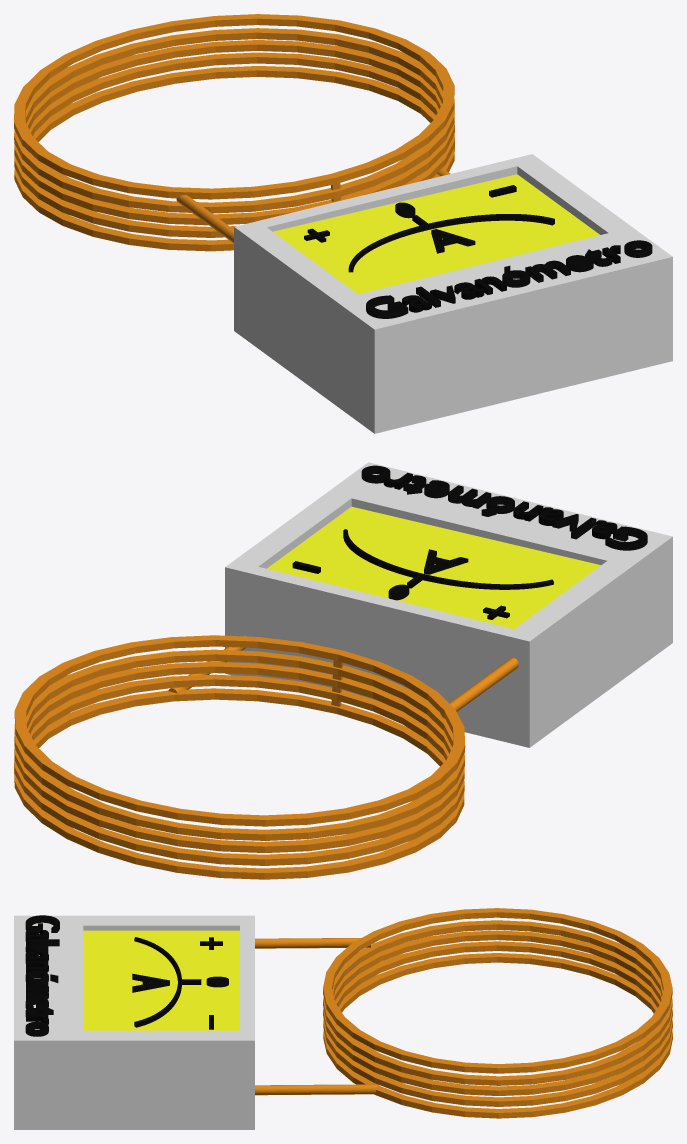
Rendered from multimetro2.dae.
The picture shows the model from 3 angles, top to bottom: view 1: azimuth 30°, elevation 25°; view 2: azimuth 150°, elevation 25°; view 3: azimuth 270°, elevation 25°; orthographic projection. The views are drawn at different scales.
Visible parts, largest first — view 1: Cono.003, Cono.010; view 2: Cono.003, Cono.010; view 3: Cono.003, Cono.010.
Part boxes in pixels (x1,y1,x2,y2): Cono.003: (234, 154, 672, 433); Cono.010: (14, 14, 454, 251); Cono.003: (225, 462, 672, 747); Cono.010: (14, 635, 518, 879); Cono.003: (14, 915, 254, 1129); Cono.010: (255, 908, 672, 1118).
Bounding box in the file's own units: 1.12 × 1.9 × 0.3009.
